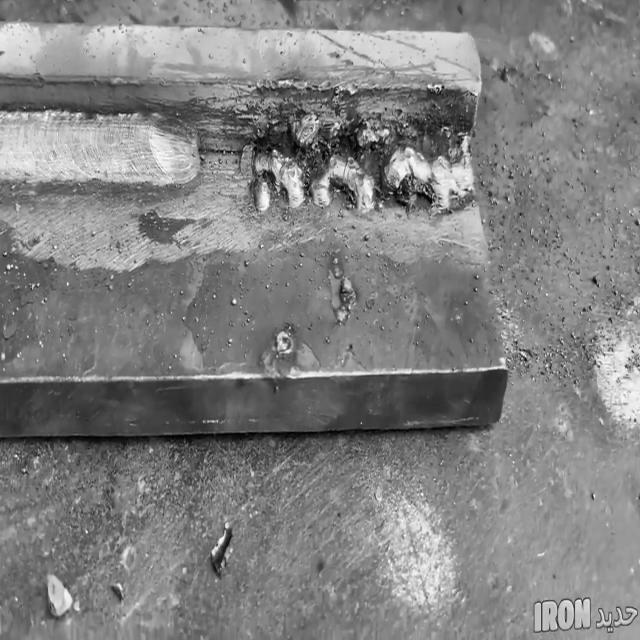Bad Weld: (244, 96, 476, 227)
Good Weld: (0, 99, 206, 200)
